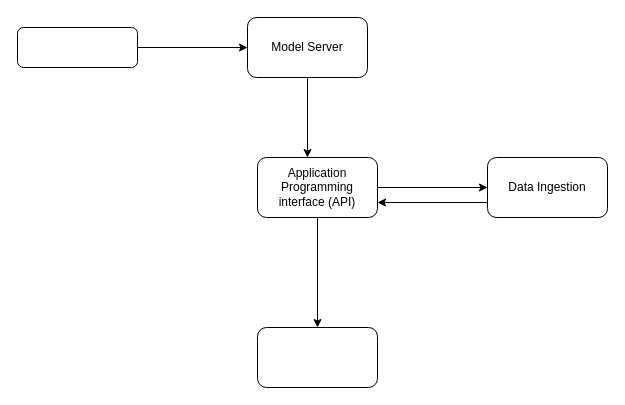
Some shapes in this 625 by 405 pixel diagram are drawn without their labels. The centre of each missing label's shape, as x and y in pixels:
Interface (model prediction): pixel 317 357
Model Training: pixel 77 47
